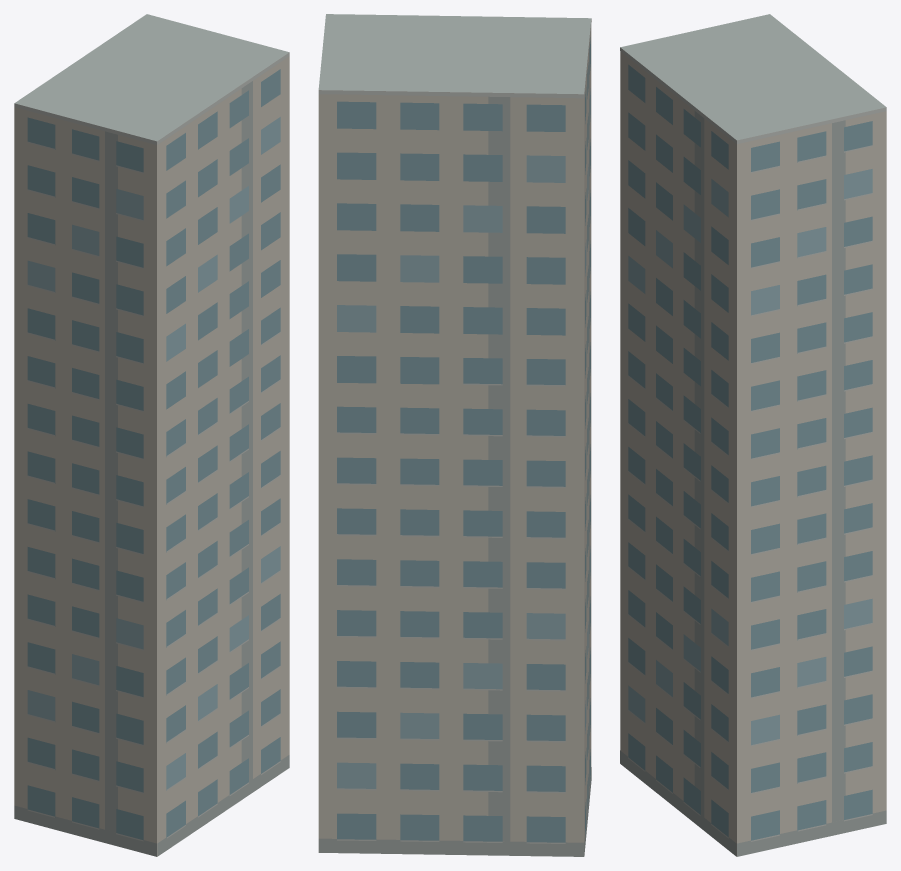
File: survey-upis-32840454.glb
3 renders of one model, left to right at view 1: azimuth 30°, elevation 25°; view 2: azimuth 150°, elevation 25°; view 3: azimuth 270°, elevation 25°, orthographic. The views are drawn at different scales.
Visible parts, largest first — view 1: survey-upis-32840454.tmp; view 2: survey-upis-32840454.tmp; view 3: survey-upis-32840454.tmp.
Part boxes in pixels (<box>): survey-upis-32840454.tmp: <box>14,14,289,856</box>; survey-upis-32840454.tmp: <box>318,14,591,856</box>; survey-upis-32840454.tmp: <box>620,14,886,856</box>.
Size of the model in its own units: 17.33 by 45.75 by 15.44.
